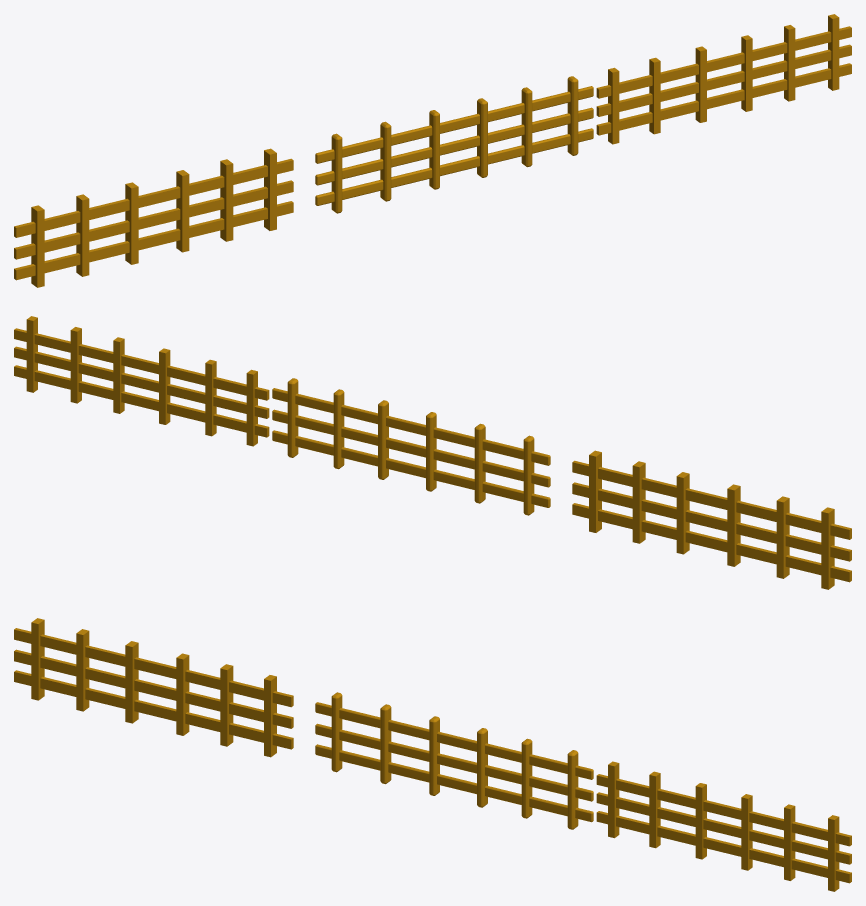
Rendered from fence.fbx.
3 views of the same model, one above another, from view 1: azimuth 30°, elevation 25°; view 2: azimuth 150°, elevation 25°; view 3: azimuth 330°, elevation 25° (orthographic).
Parts seen in each view (by area): view 1: pCube31, pCube32, pCube21; view 2: pCube31, pCube32, pCube21; view 3: pCube31, pCube32, pCube21.
Part boxes in pixels (box(x1,y1,x2,y2)): pCube31: box(14, 148, 293, 287); pCube32: box(315, 76, 593, 213); pCube21: box(596, 14, 851, 144); pCube31: box(572, 450, 851, 589); pCube32: box(272, 378, 550, 515); pCube21: box(14, 316, 269, 446); pCube31: box(14, 618, 293, 757); pCube32: box(315, 692, 593, 829); pCube21: box(596, 761, 851, 891).
Bounding box in the file's own units: 33.2 × 2.91 × 0.4139.
